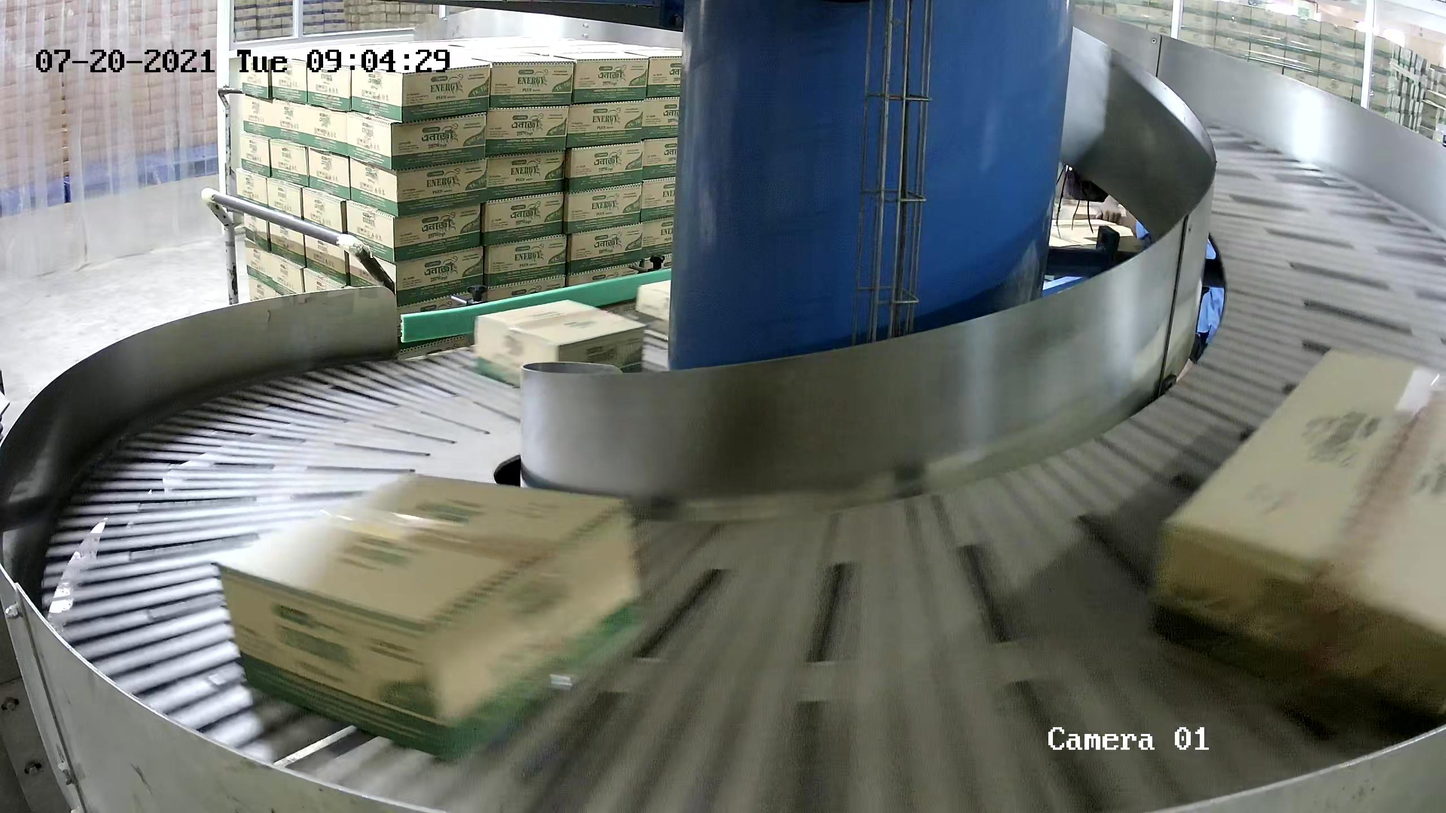Box: (215, 469, 644, 764), (1147, 344, 1446, 736), (474, 298, 647, 389), (635, 279, 672, 341)
